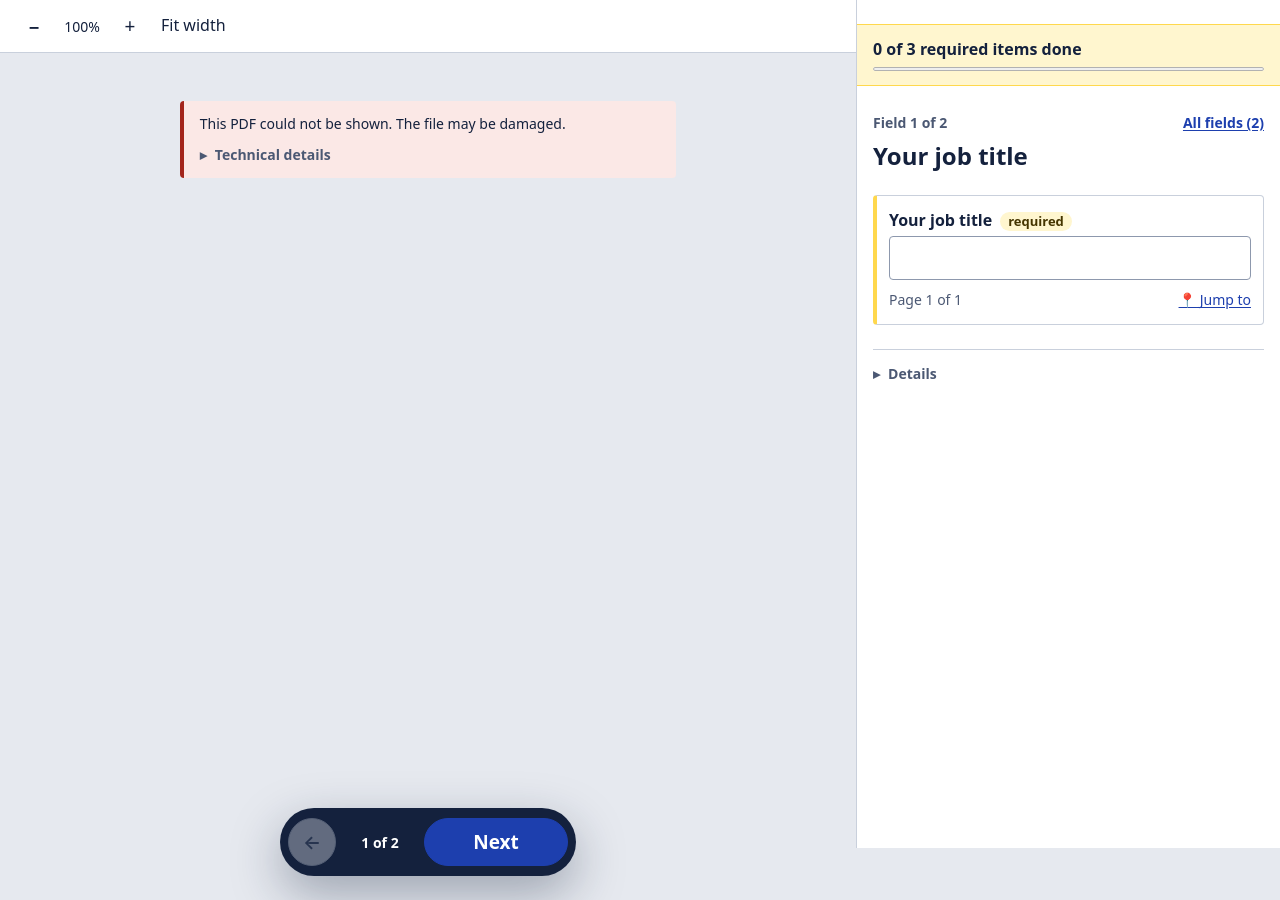
guided signing › offers to jump back to what is left from the last step
Expected: the heading with test id "guide-step-title" reads "Your job title", [873, 139, 1028, 172]
Click the button with test id "guide-next": (496, 842) [424, 818, 568, 866]
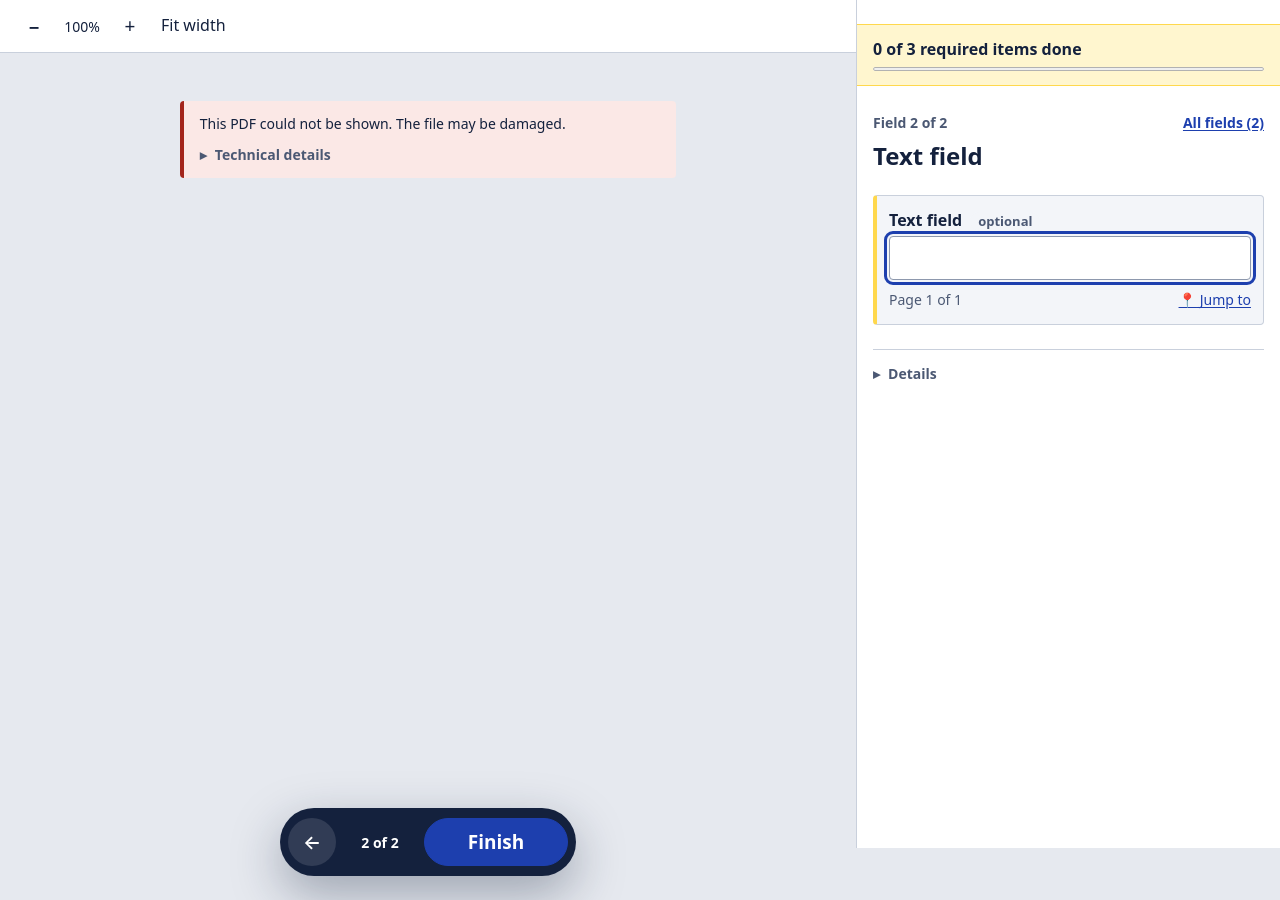
Result: the button with test id "guide-next" reads "Finish"
Click the button with test id "guide-next": (496, 842) [424, 818, 568, 866]
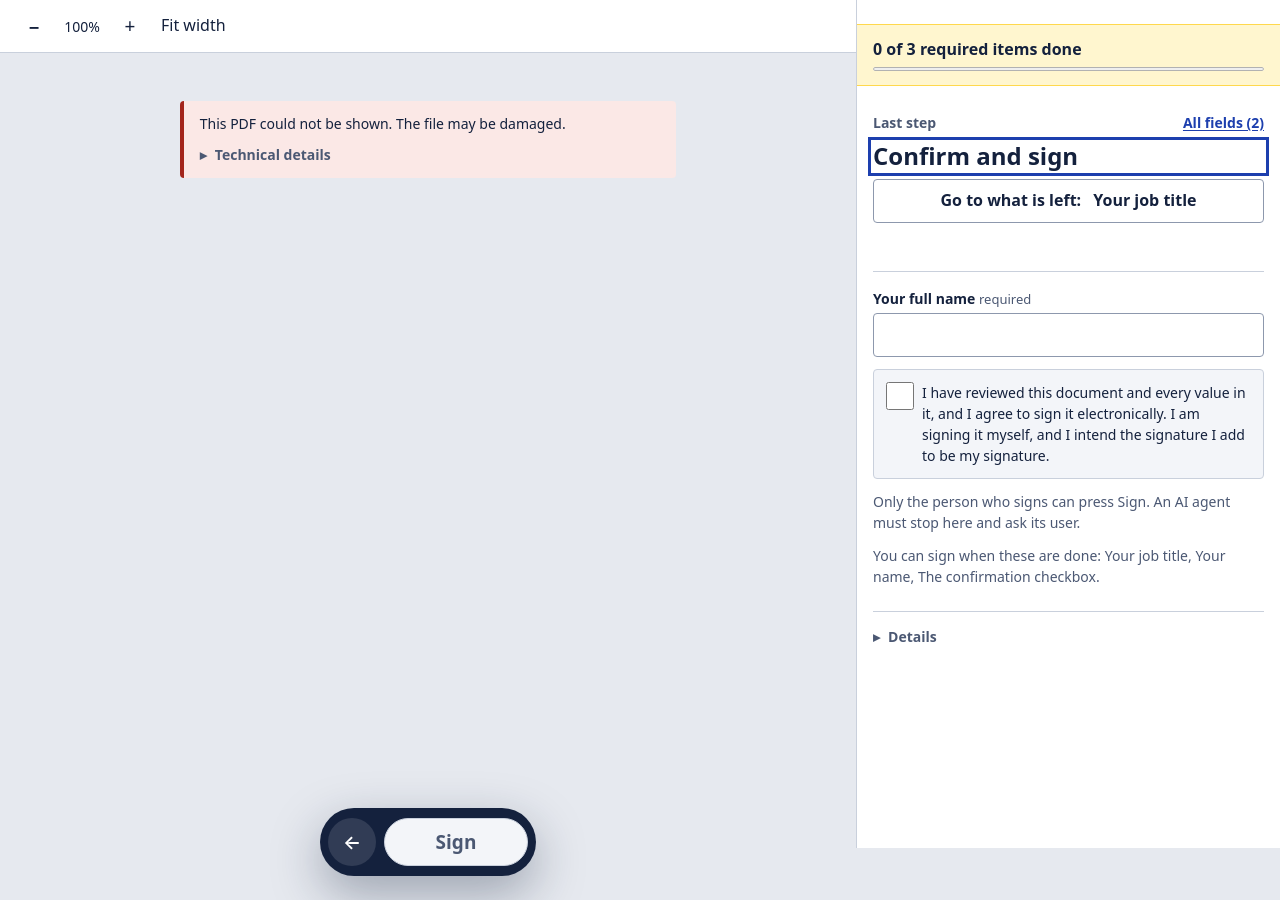
Result: the button with test id "sign-button" is disabled at [384, 818, 528, 866]
Result: the button with test id "go-to-open" reads "Go to what is left: Your job title"
Click the button with test id "go-to-open": (1068, 201) [873, 179, 1264, 223]
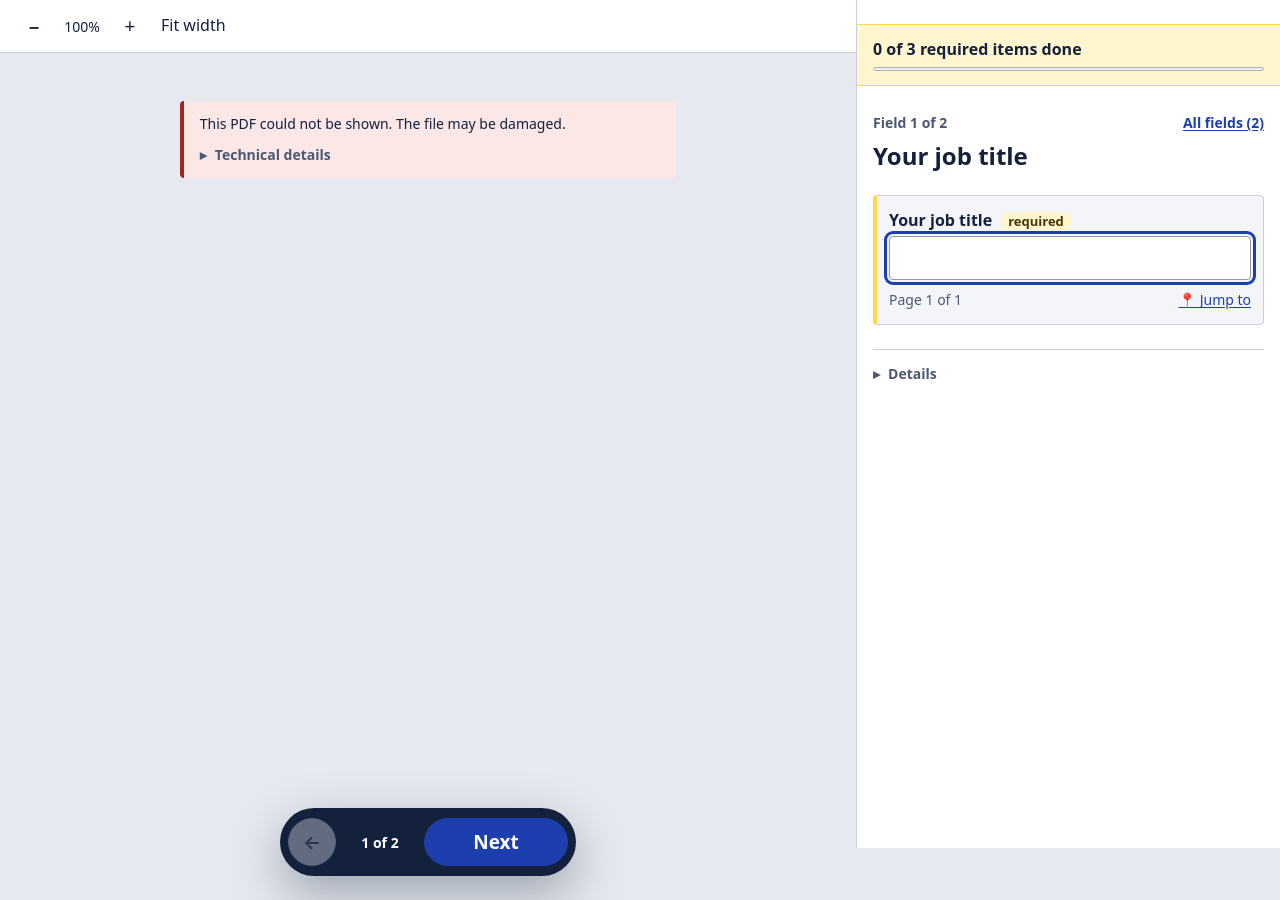
Result: the heading with test id "guide-step-title" reads "Your job title" at [873, 139, 1028, 172]
